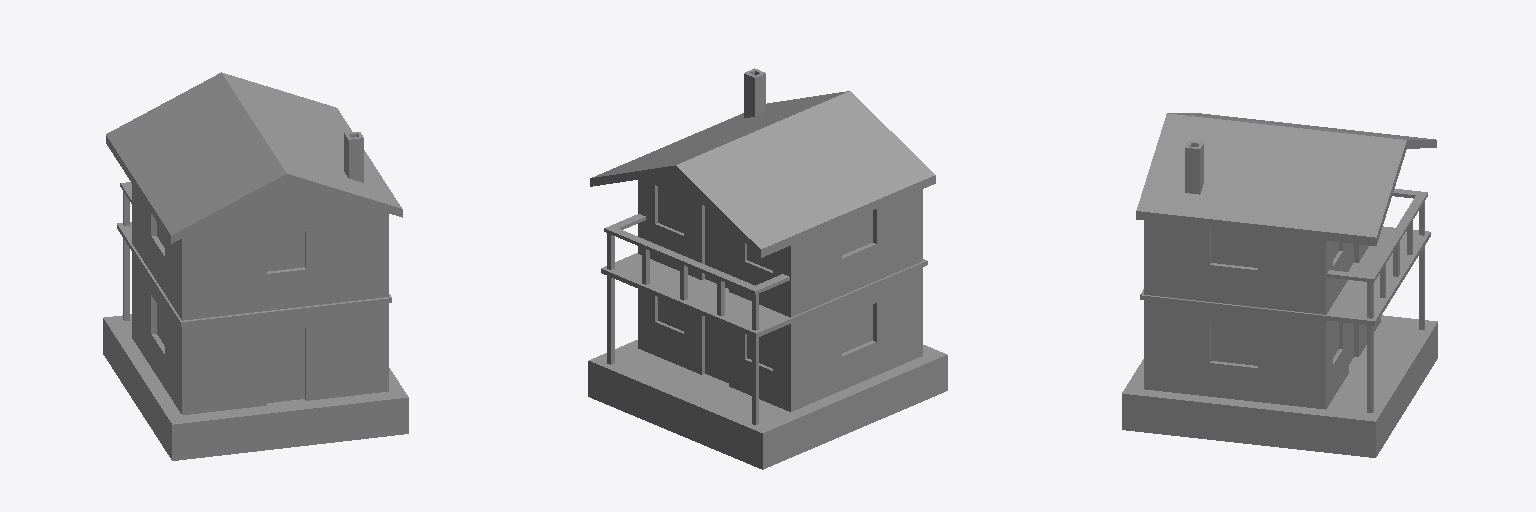
The model's file is BuildingOBJ6.obj.
The picture shows the model from 3 angles: view 1: azimuth 30°, elevation 25°; view 2: azimuth 150°, elevation 25°; view 3: azimuth 270°, elevation 25°; orthographic projection.
Visible parts, largest first — view 1: cabin_004.000_Untitled.008; view 2: cabin_004.000_Untitled.008; view 3: cabin_004.000_Untitled.008.
Boxes of the visible parts, <box> form: cabin_004.000_Untitled.008: <box>103,72,408,460</box>; cabin_004.000_Untitled.008: <box>588,68,947,469</box>; cabin_004.000_Untitled.008: <box>1122,113,1437,457</box>.
Size of the model in its own units: 2.98 by 2.98 by 3.1.